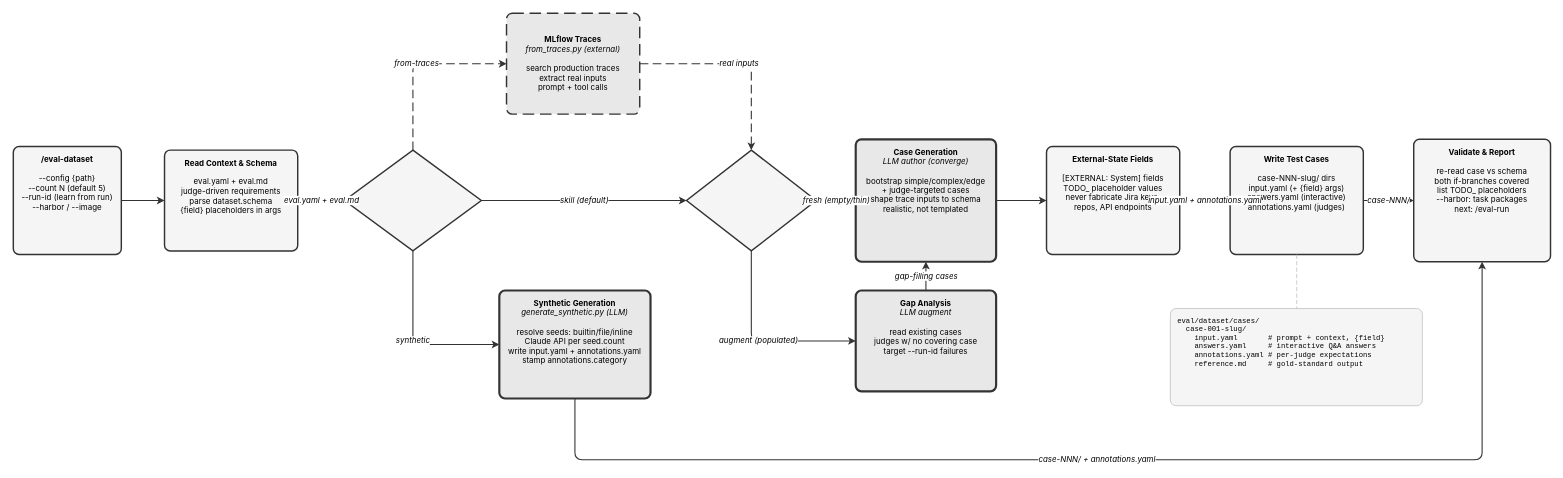
Image size: 1563x478. Some labels were removed from this diagram. The centre of each missing label's shape, as x and y in pixels:
"dataset state? Step 3 assessment empty/thin → fresh populated → augment" goes at pixel 750 200.
"generation.strategy? case provenance: skill · synthetic · from-traces" goes at pixel 412 200.
